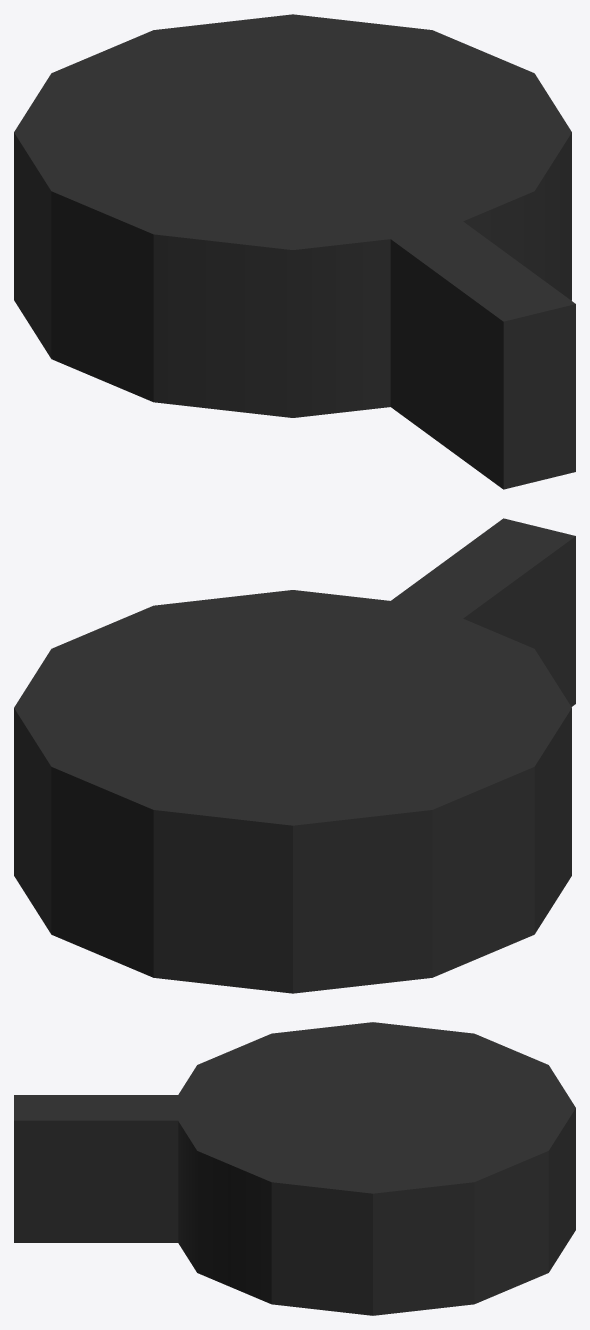
The model's file is acb_roller8.fbx.
3 renders of one model, top to bottom at view 1: azimuth 30°, elevation 25°; view 2: azimuth 150°, elevation 25°; view 3: azimuth 270°, elevation 25°, orthographic. The views are drawn at different scales.
Parts seen in each view (by area): view 1: acb_roller7; view 2: acb_roller7; view 3: acb_roller7.
Boxes of the visible parts, x1,y1,x2,y2 form: acb_roller7: (14,14,575,489); acb_roller7: (14,518,575,993); acb_roller7: (14,1022,575,1315).
Bounding box in the file's own units: 0.02 × 0.00666 × 0.0278.
1 material, 1 textured.
